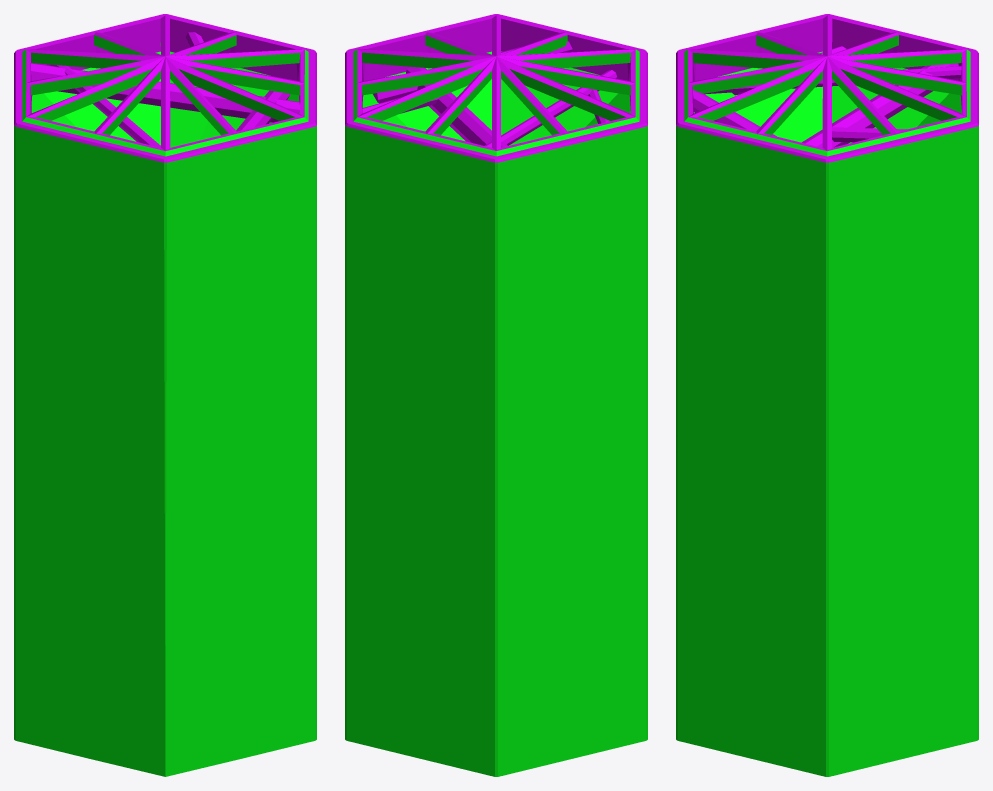
File: Pipes.FBX
3 views of the same model, side by side, from view 1: azimuth 30°, elevation 25°; view 2: azimuth 150°, elevation 25°; view 3: azimuth 270°, elevation 25° (orthographic).
Parts seen in each view (by area): view 1: Object126; view 2: Object126; view 3: Object126.
Part boxes in pixels (x1=…): Object126: x1=14, y1=14, x2=316, y2=776; Object126: x1=345, y1=14, x2=647, y2=776; Object126: x1=676, y1=14, x2=978, y2=776.
Bounding box in the file's own units: 250 × 218 × 514.
